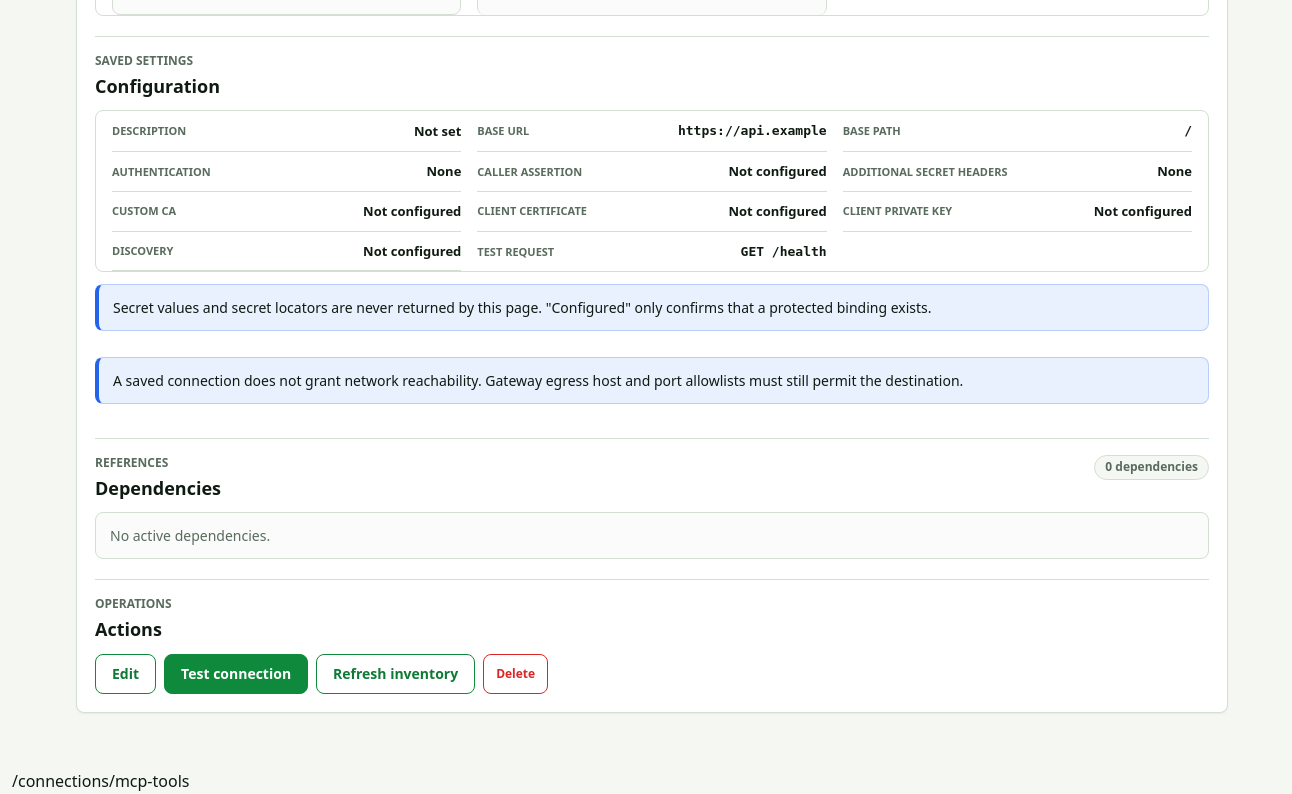
Test: ConnectionDetail › refreshes inventory and reports bounded added, changed, and removed counts
The width and height of the screenshot is (1292, 794).
(page scrolled)
What coordinates should you click on to do the following:
click the button "Refresh inventory"
I would click on:
 (396, 674)
Its box is [316,654,475,694].
(page scrolled)
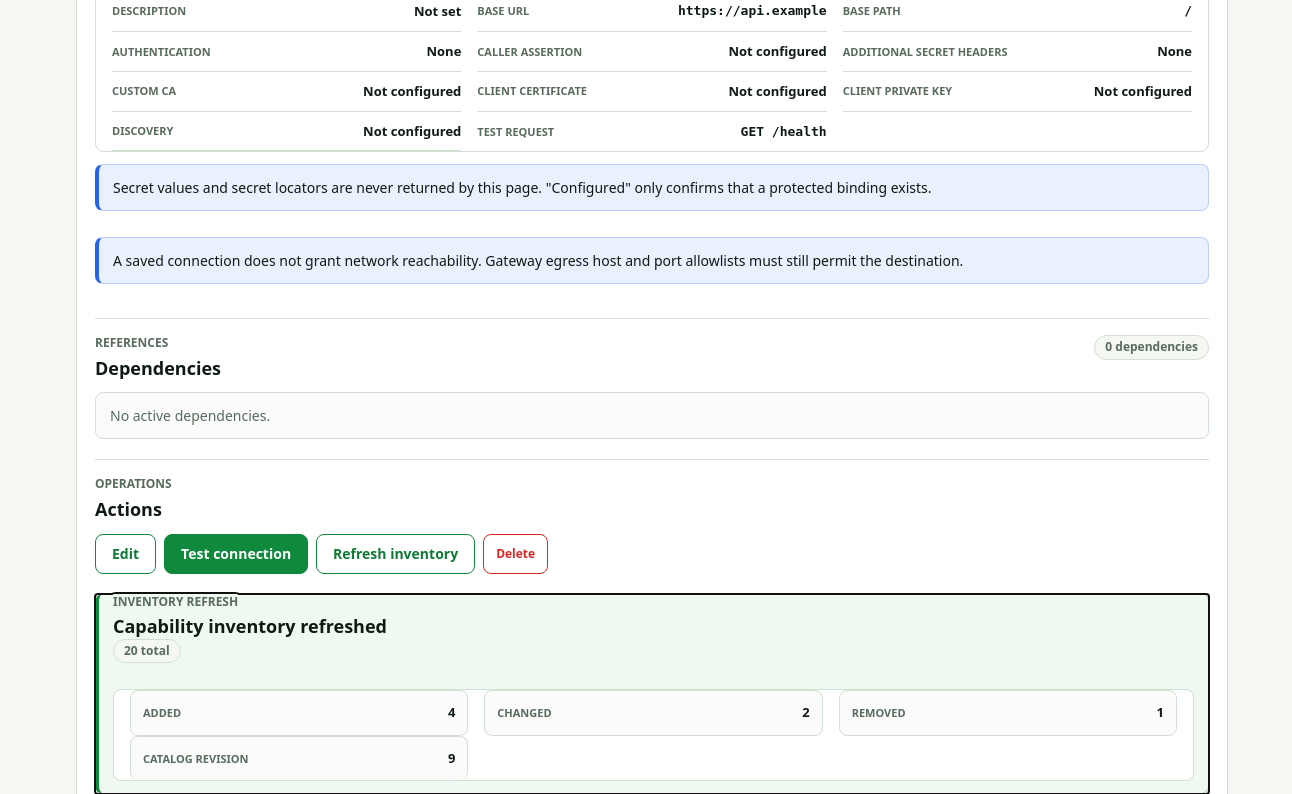
Now the heading "Capability inventory refreshed" is shown, box [113,614,387,638]
Now the text "20 total" is shown, box [113,639,181,663]
